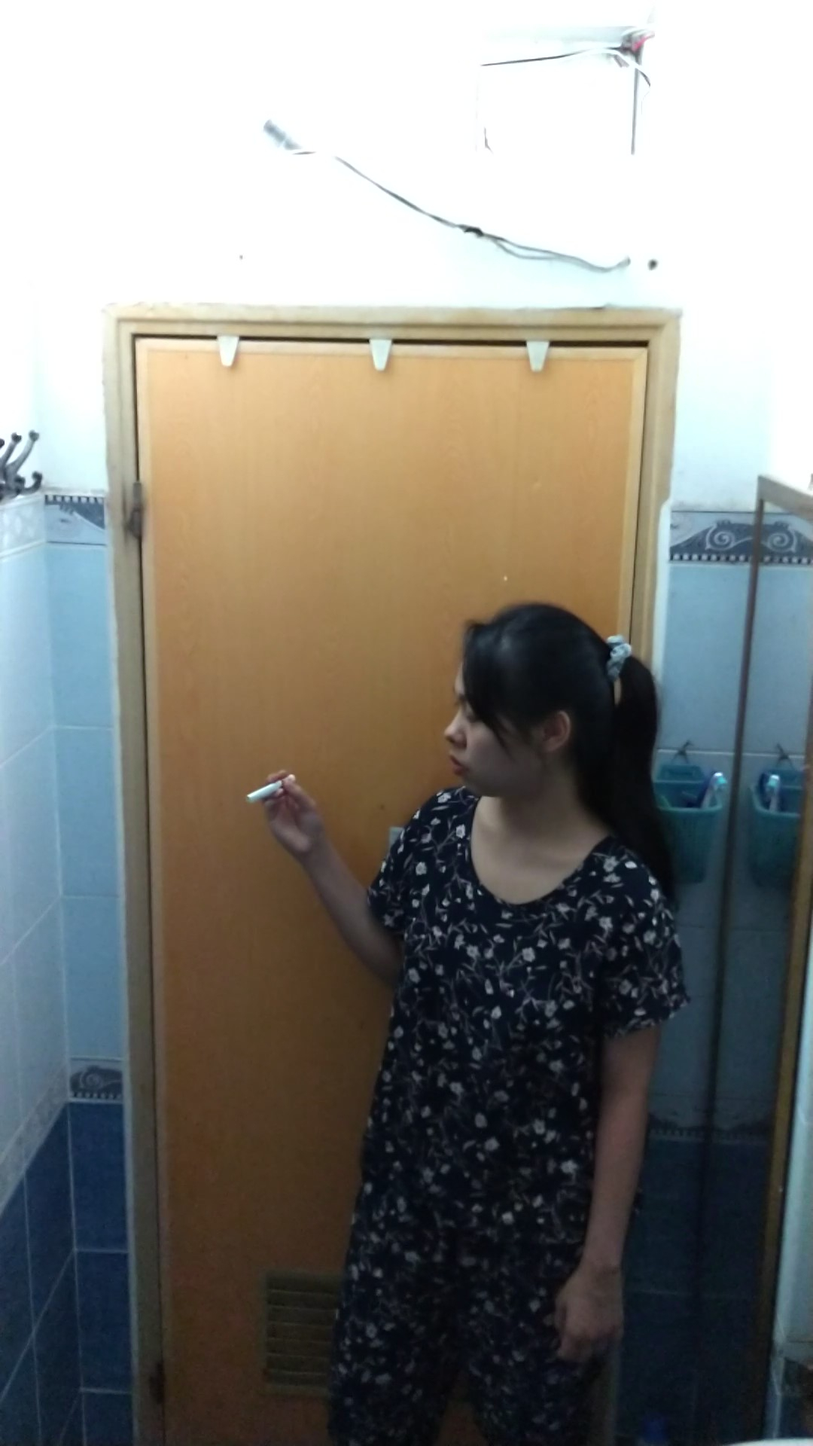cigarette: (241, 779, 279, 810)
person: (240, 584, 714, 1446)
